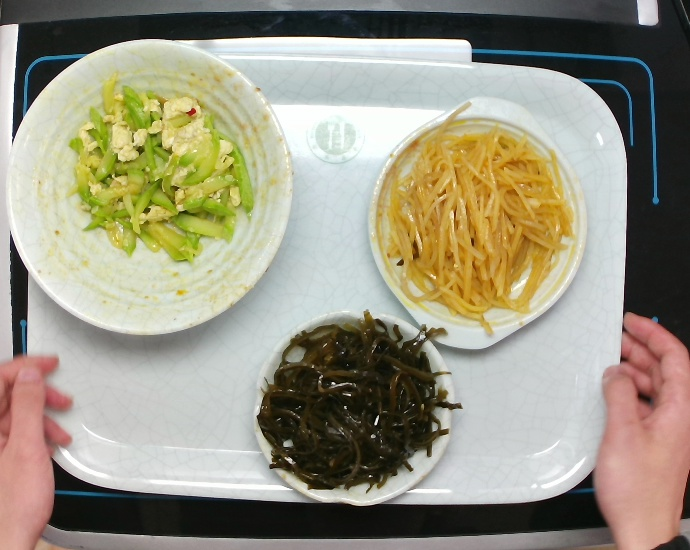JYsf-Ao_Yuan_Wan: (251, 306, 456, 509)
JYsf-Shuang_Er_Pan: (364, 94, 592, 352)
JYsf-Xiao_Tang_Wan: (2, 38, 294, 338)
